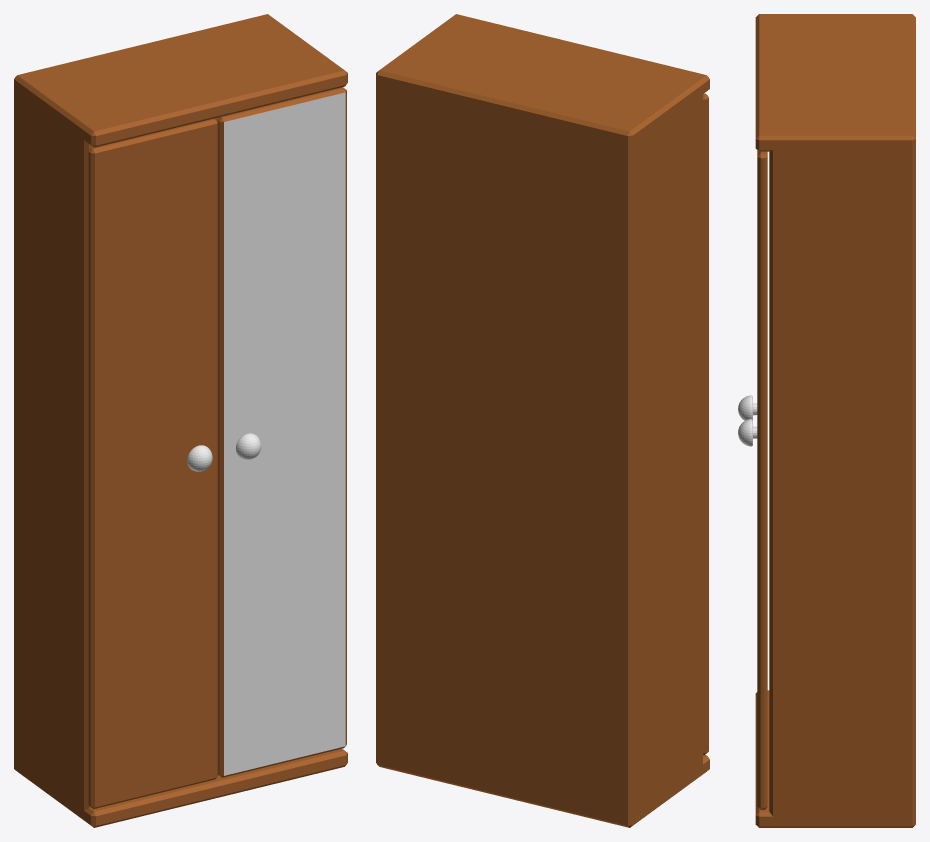
File: Dolap_Devrim 1.fbx
3 views of the same model, side by side, from view 1: azimuth 30°, elevation 25°; view 2: azimuth 150°, elevation 25°; view 3: azimuth 270°, elevation 25° (orthographic).
Parts seen in each view (by area): view 1: Cube.001, Cube, Sphere; view 2: Cube, Cube.001; view 3: Cube, Cube.001, Sphere.
Boxes of the visible parts, bbox=[...] form: Cube.001: bbox=[88, 87, 346, 809]; Cube: bbox=[14, 14, 347, 827]; Sphere: bbox=[187, 433, 261, 471]; Cube: bbox=[376, 14, 709, 827]; Cube.001: bbox=[703, 93, 708, 754]; Cube: bbox=[755, 14, 915, 827]; Cube.001: bbox=[757, 150, 767, 809]; Sphere: bbox=[738, 395, 757, 446].
Bounding box in the file's own units: 141 × 366 × 85.19.
